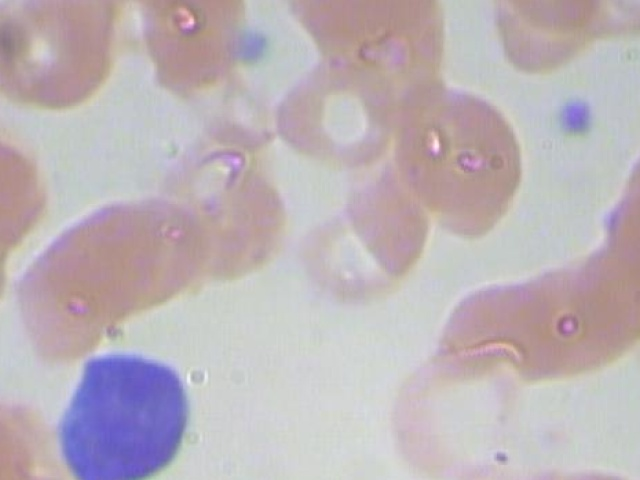Platelets: (542, 81, 602, 146), (235, 16, 283, 70)
RBC: (381, 76, 526, 238), (427, 258, 584, 404), (380, 345, 537, 480), (495, 235, 640, 381), (294, 168, 438, 294), (271, 201, 415, 327), (266, 52, 409, 177), (45, 183, 167, 328), (3, 223, 124, 368), (98, 171, 219, 316), (164, 143, 285, 287), (3, 0, 124, 111), (127, 0, 248, 96), (472, 0, 610, 78), (0, 107, 56, 275), (0, 0, 68, 120), (490, 0, 628, 54), (592, 163, 640, 304), (0, 386, 36, 480), (0, 190, 23, 335), (530, 450, 640, 480), (579, 0, 640, 43), (623, 115, 640, 256), (639, 34, 640, 157)
WBC: (37, 341, 204, 480)
